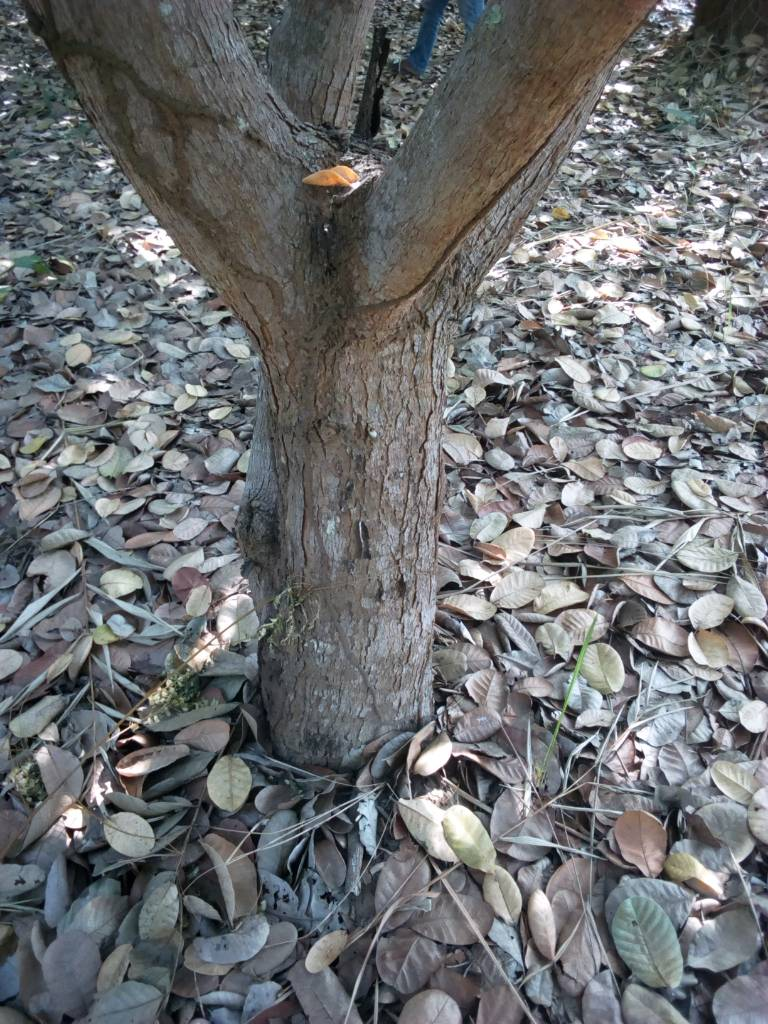Termites: (293, 367, 438, 708), (161, 172, 285, 310), (91, 39, 229, 155)
